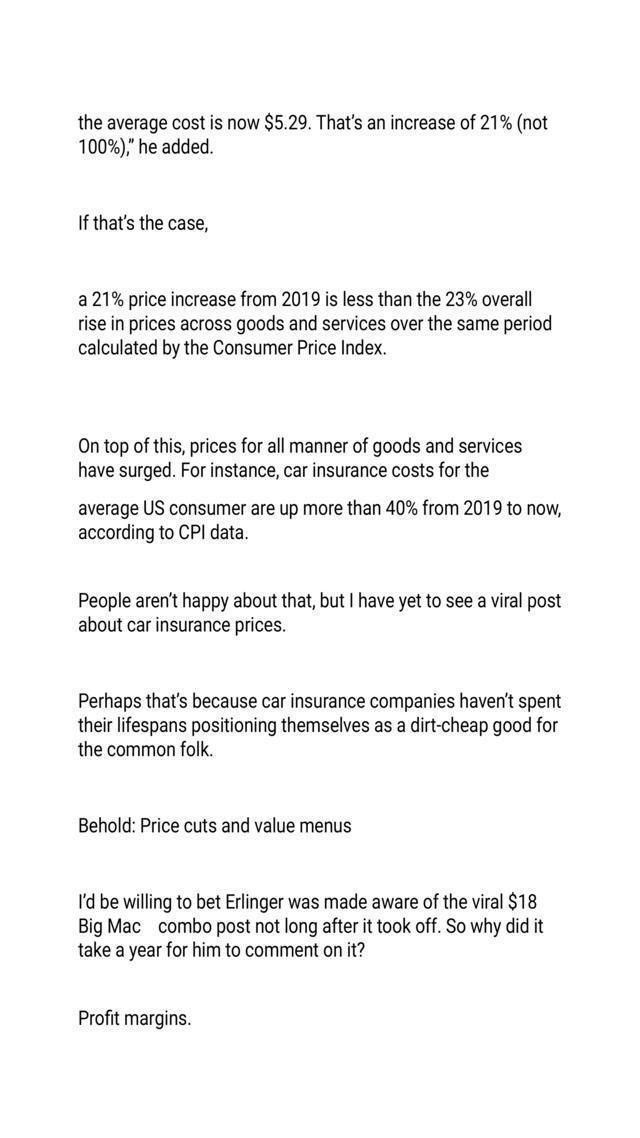Text: (72, 586, 568, 614), (71, 688, 567, 714), (73, 110, 561, 136), (71, 714, 563, 739), (76, 496, 578, 520), (71, 914, 552, 939), (73, 434, 529, 460), (75, 313, 562, 337), (75, 287, 543, 310), (72, 889, 544, 910), (76, 460, 496, 482), (72, 940, 377, 966), (75, 812, 358, 840), (73, 338, 396, 360), (73, 614, 290, 639), (74, 523, 254, 547), (73, 208, 213, 238), (72, 134, 220, 162), (74, 1004, 194, 1034), (72, 738, 216, 761)
